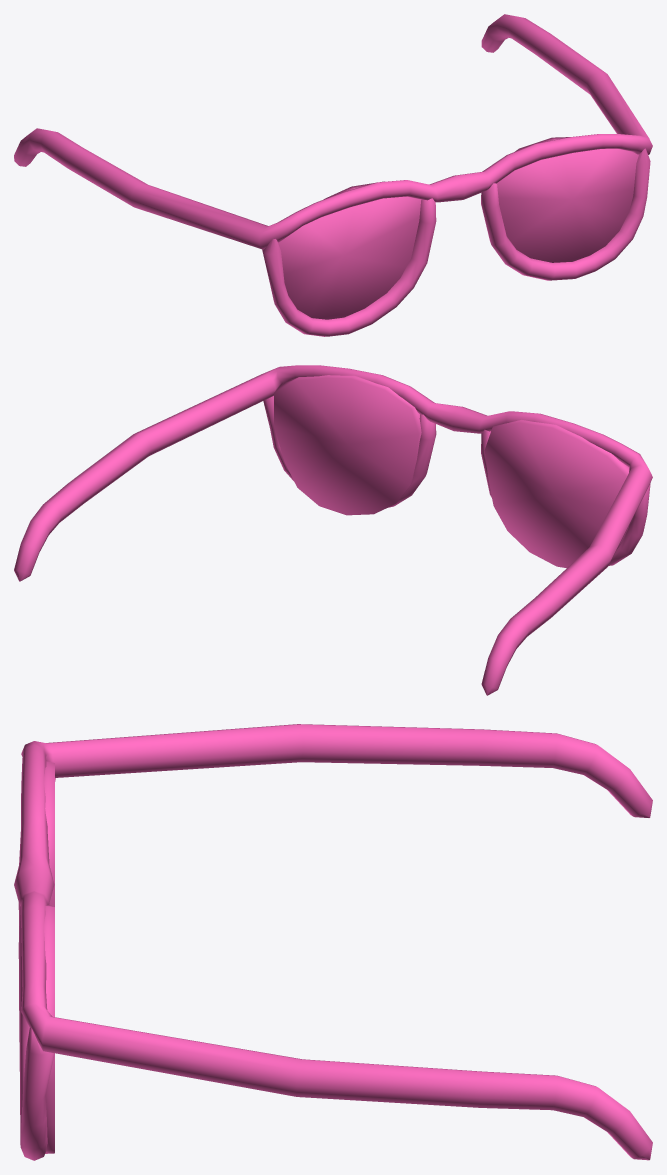
Rendered from glasses.fbx.
3 views of the same model, one above another, from view 1: azimuth 30°, elevation 25°; view 2: azimuth 150°, elevation 25°; view 3: azimuth 270°, elevation 25° (orthographic). The views are drawn at different scales.
Parts seen in each view (by area): view 1: glasses; view 2: glasses; view 3: glasses.
Boxes of the visible parts, x1,y1,x2,y2 form: glasses: [14, 14, 652, 336]; glasses: [14, 365, 652, 695]; glasses: [14, 724, 652, 1160].
Bounding box in the file's own units: 45.61 × 12.77 × 34.35.
